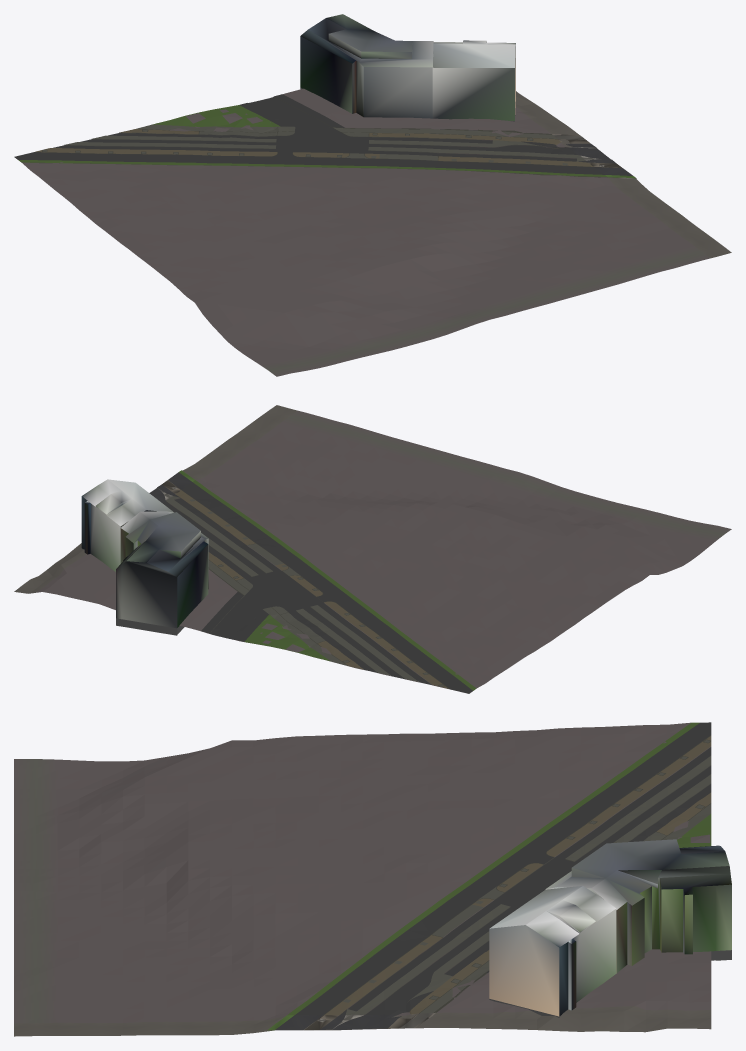
3 views of the same model, one above another, from view 1: azimuth 30°, elevation 25°; view 2: azimuth 150°, elevation 25°; view 3: azimuth 270°, elevation 25° (orthographic). The views are drawn at different scales.
Visible parts, largest first — view 1: c_m15_m01; view 2: c_m15_m01; view 3: c_m15_m01.
Boxes of the visible parts, left/top/right/bottom form: c_m15_m01: left=14, top=14, right=731, bottom=376; c_m15_m01: left=14, top=405, right=731, bottom=693; c_m15_m01: left=14, top=722, right=731, bottom=1036.
Size of the model in its own units: 128 by 23.84 by 132.
